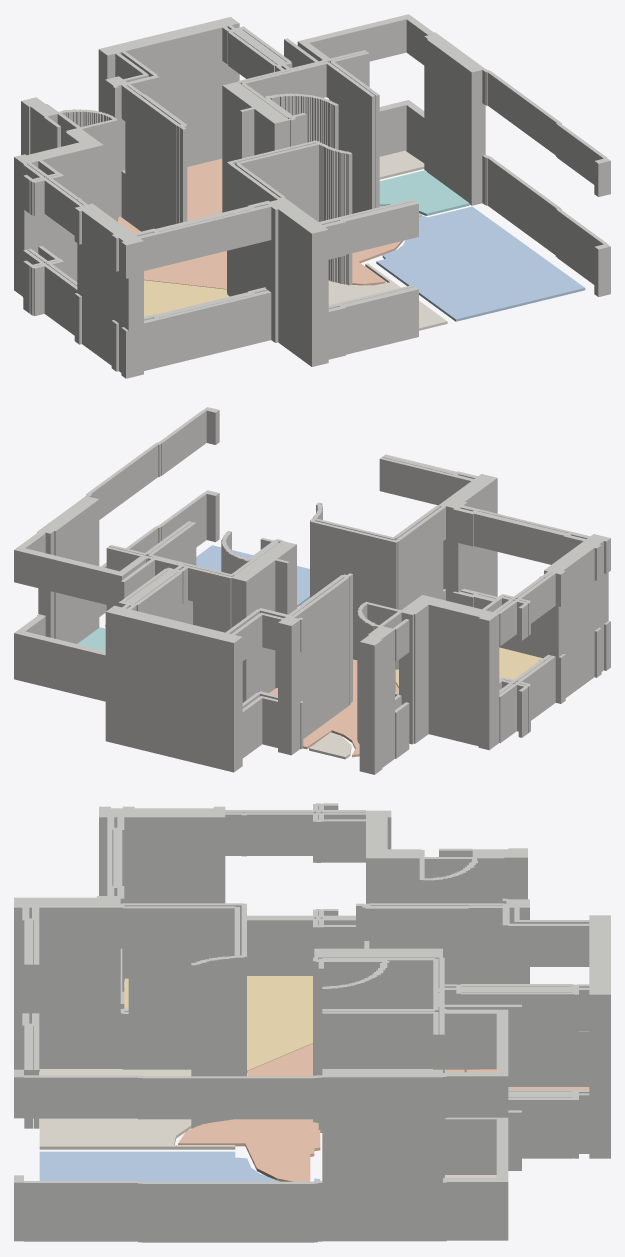
The picture shows the model from 3 angles, top to bottom: view 1: azimuth 30°, elevation 25°; view 2: azimuth 150°, elevation 25°; view 3: azimuth 270°, elevation 25°; orthographic projection. The views are drawn at different scales.
Parts seen in each view (by area): view 1: walls, room:bedroom:4, room:kitchen:2, room:bath:1, room:kitchen:0, room:living:3, room:other:11, room:other:7; view 2: walls, room:kitchen:2, room:bedroom:4, room:living:3, room:other:6; view 3: walls, room:kitchen:2, room:bedroom:4, room:other:11, room:living:3.
Part boxes in pixels (<box>): walls: <box>14,14,610,378</box>; room:bedroom:4: <box>376,206,585,321</box>; room:kitchen:2: <box>118,216,403,289</box>; room:bath:1: <box>379,170,469,215</box>; room:kitchen:0: <box>187,158,222,220</box>; room:living:3: <box>144,280,229,316</box>; room:other:11: <box>328,263,447,330</box>; room:other:7: <box>379,150,424,179</box>; walls: <box>14,407,610,774</box>; room:kitchen:2: <box>269,659,398,757</box>; room:bedroom:4: <box>105,545,309,626</box>; room:living:3: <box>395,647,542,687</box>; room:other:6: <box>309,732,351,759</box>; walls: <box>14,803,610,1242</box>; room:kitchen:2: <box>178,1044,464,1181</box>; room:bedroom:4: <box>39,1151,320,1181</box>; room:other:11: <box>39,1069,235,1149</box>; room:living:3: <box>124,976,312,1072</box>.
Size of the model in its own units: 10.06 by 2.8 by 9.23.
